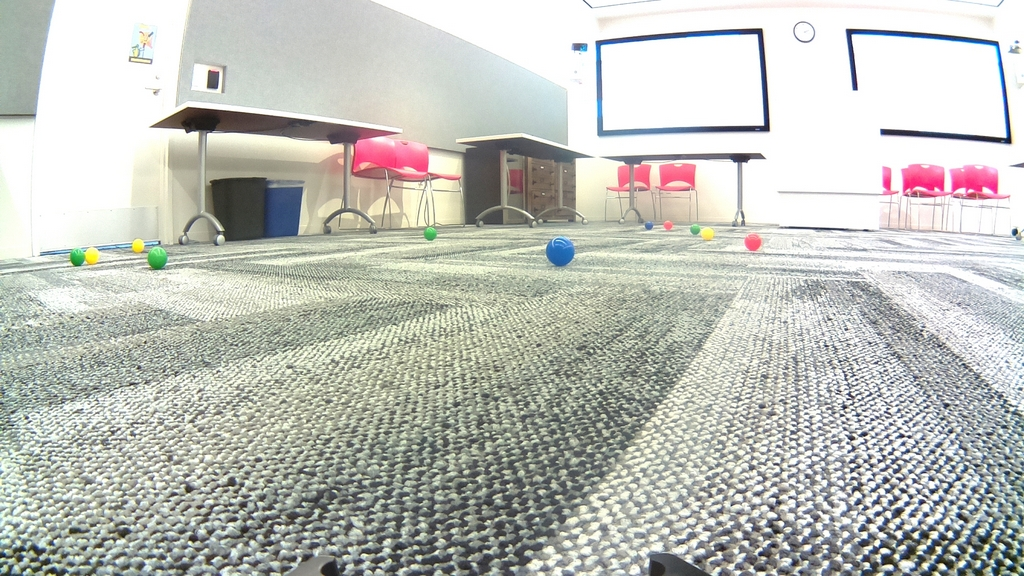ball: (689, 224, 699, 235)
